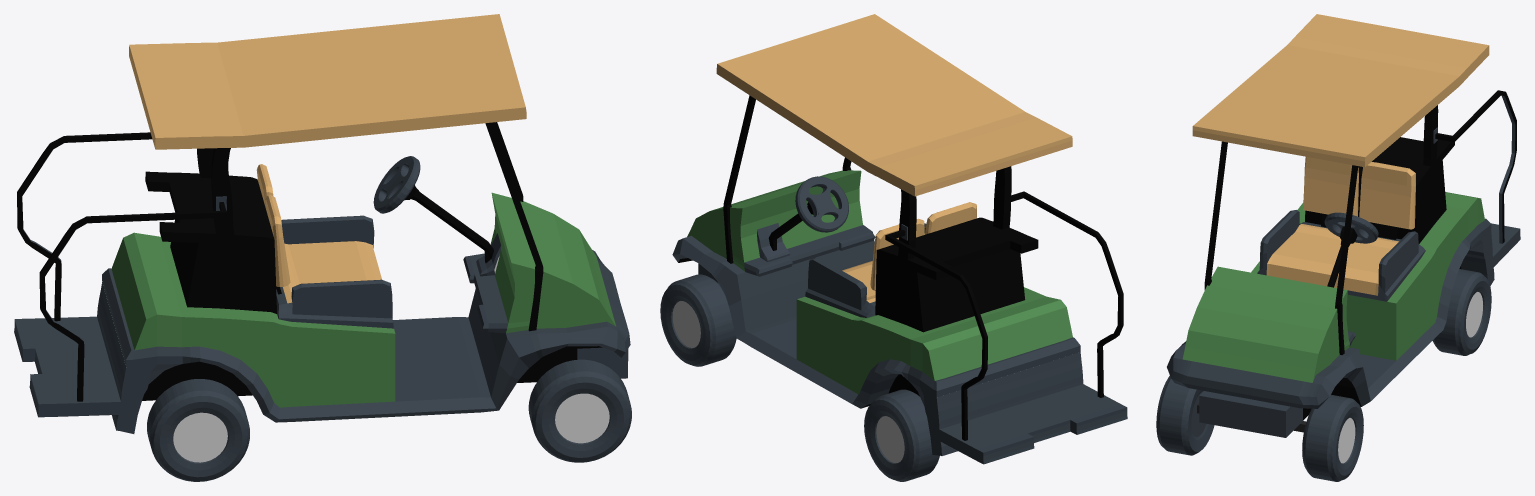
Rendered from carts.fbx.
The picture shows the model from 3 angles, left to right: view 1: azimuth 30°, elevation 25°; view 2: azimuth 150°, elevation 25°; view 3: azimuth 270°, elevation 25°; orthographic projection. The views are drawn at different scales.
Visible parts, largest first — view 1: Cube.001; view 2: Cube.001; view 3: Cube.001.
Part boxes in pixels (bbox=[...]): Cube.001: bbox=[14, 14, 631, 481]; Cube.001: bbox=[660, 14, 1127, 481]; Cube.001: bbox=[1156, 14, 1520, 481].
Size of the model in its own units: 9.14 by 5.74 by 6.25.
